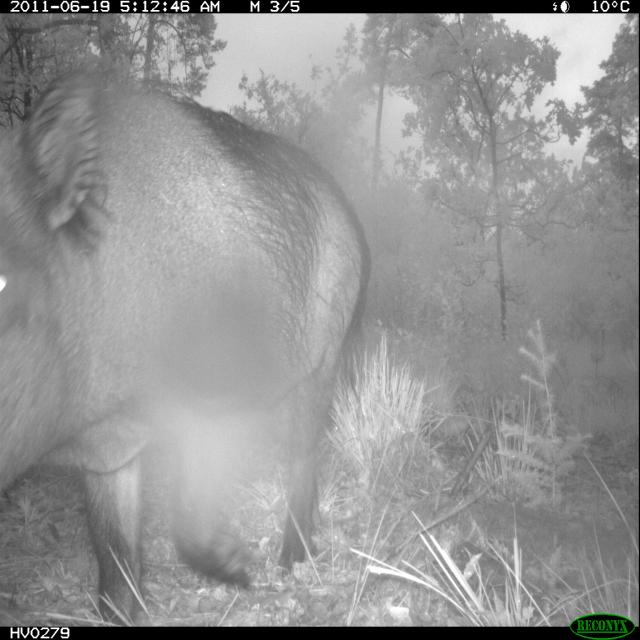boar: (0, 32, 605, 611)
